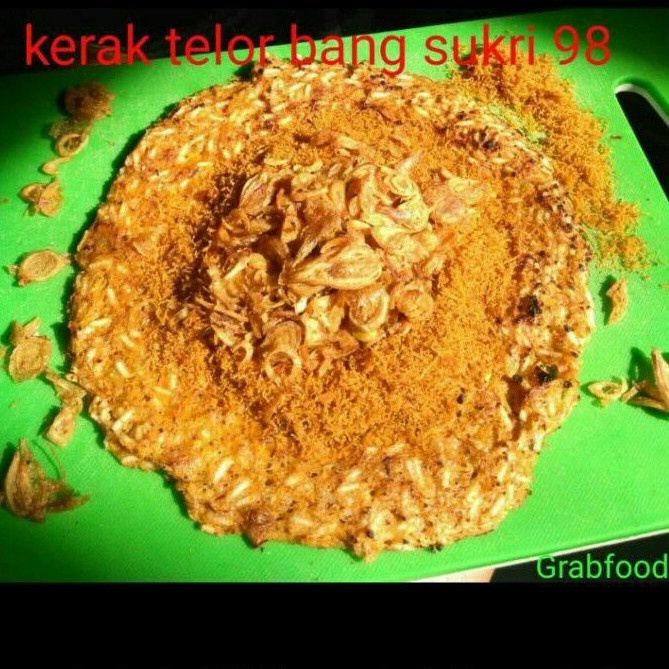kerak_telor: (71, 68, 593, 552)
